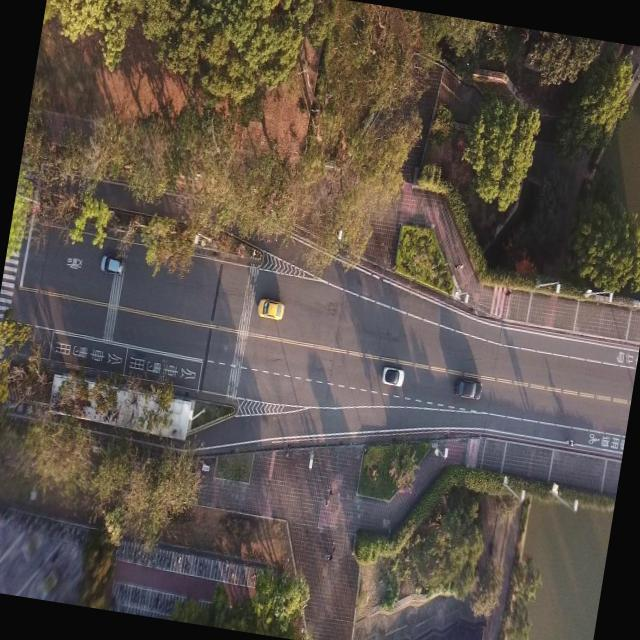car: (452, 374, 484, 403), (378, 362, 406, 388), (256, 296, 284, 320), (100, 253, 124, 274)
